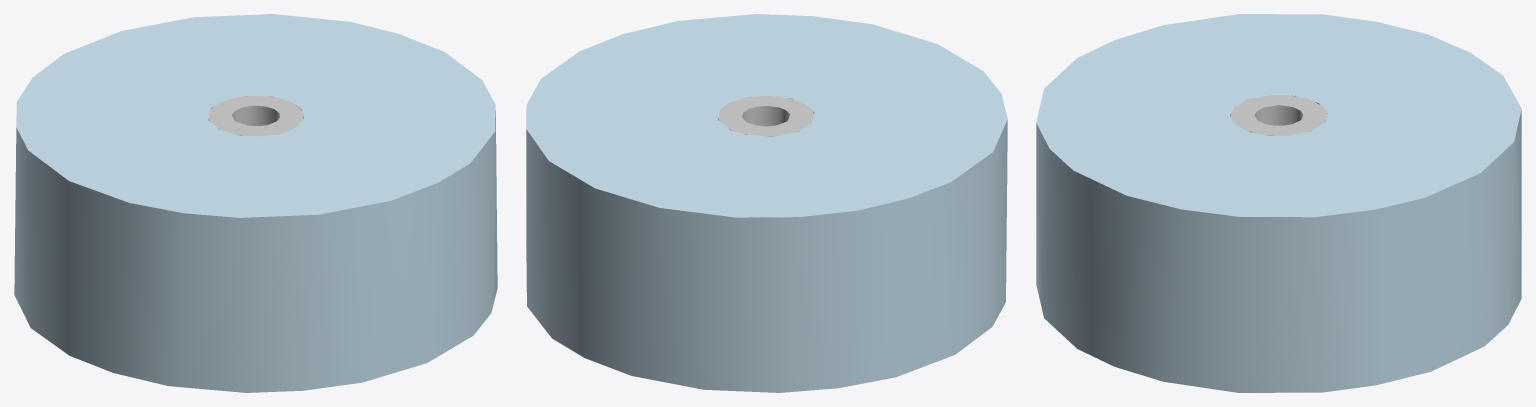
File: FiveInFlywheel.fbx
The picture shows the model from 3 angles, left to right: view 1: azimuth 30°, elevation 25°; view 2: azimuth 150°, elevation 25°; view 3: azimuth 270°, elevation 25°; orthographic projection.
Parts seen in each view (by area): view 1: Part 1, Part 2; view 2: Part 1, Part 2; view 3: Part 1, Part 2.
Boxes of the visible parts, bbox=[...] form: Part 1: bbox=[14, 14, 497, 392]; Part 2: bbox=[208, 96, 303, 136]; Part 1: bbox=[526, 14, 1007, 392]; Part 2: bbox=[718, 95, 813, 136]; Part 1: bbox=[1036, 14, 1521, 392]; Part 2: bbox=[1230, 95, 1327, 135].
Size of the model in its own units: 12.59 by 5.08 by 12.71.
